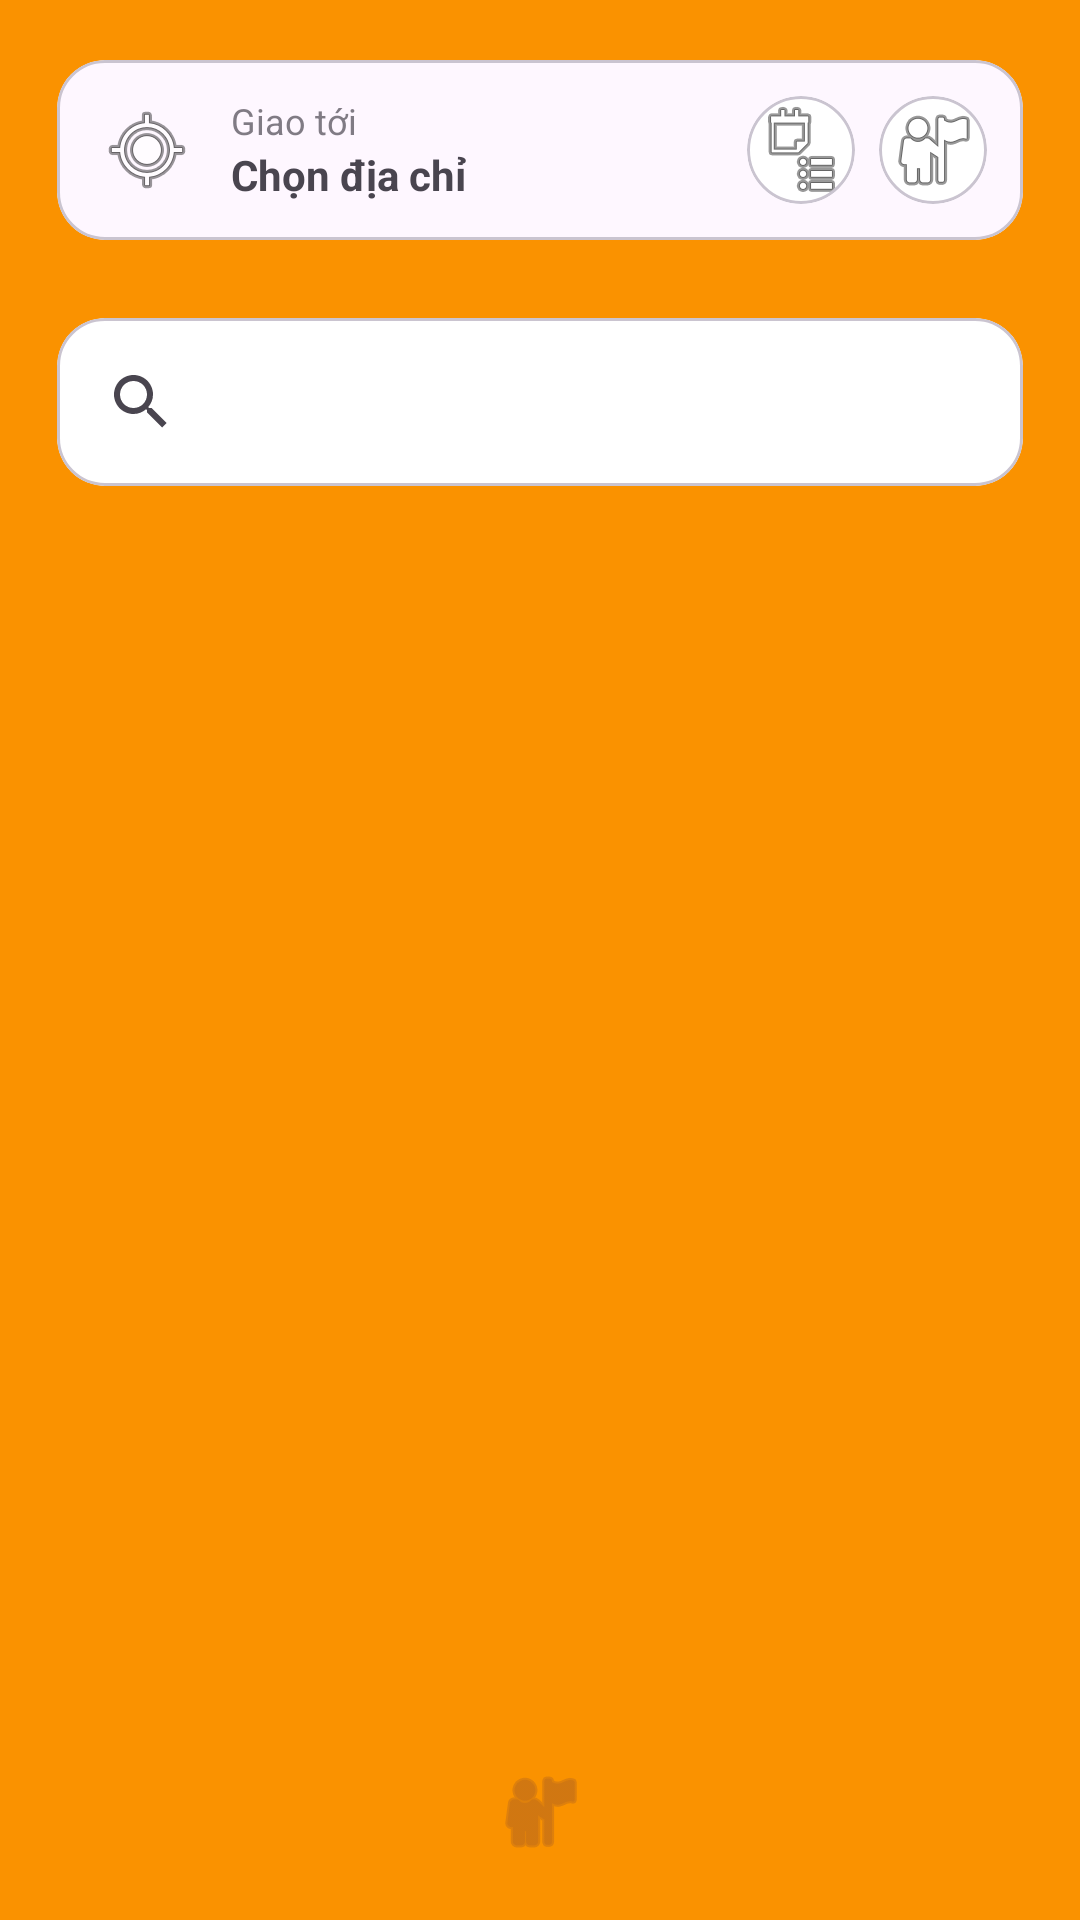

Named icons in this screenshot (1080×1920) and their bounding boxes, rect(x1, y1, x2, y2):
Locate: rect(109, 112, 185, 188)
Profile: rect(879, 96, 987, 204)
